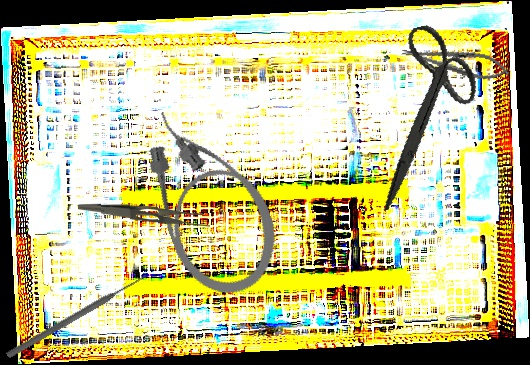Cannula: (129, 89, 292, 308)
Dressing Forceps: (77, 202, 211, 230)
Iris Scissors: (345, 17, 500, 211)
Needle Holder: (399, 37, 512, 86)
Pusher: (5, 271, 149, 361)
